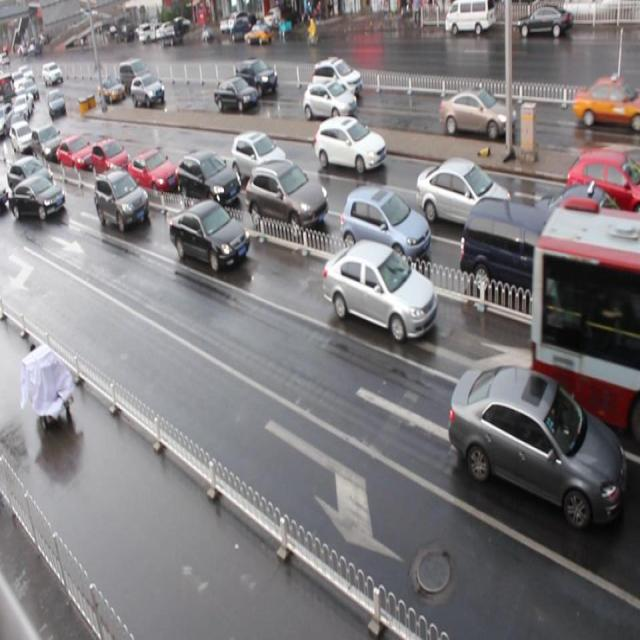car: (446, 358, 624, 530), (321, 238, 439, 346), (530, 184, 640, 272), (414, 156, 514, 234), (339, 185, 429, 269), (168, 200, 252, 276), (246, 158, 327, 233), (564, 146, 640, 222), (440, 85, 514, 142), (314, 118, 386, 174), (572, 74, 640, 130), (95, 171, 152, 236), (175, 149, 240, 204), (10, 176, 68, 226), (232, 130, 286, 183), (0, 155, 54, 201), (127, 145, 177, 193), (303, 78, 357, 121), (312, 54, 362, 100), (54, 130, 91, 176), (213, 78, 258, 114), (233, 60, 277, 95), (90, 138, 128, 176), (31, 124, 63, 164), (132, 73, 166, 107)
truck: (460, 193, 602, 324)
van: (532, 201, 640, 451)
